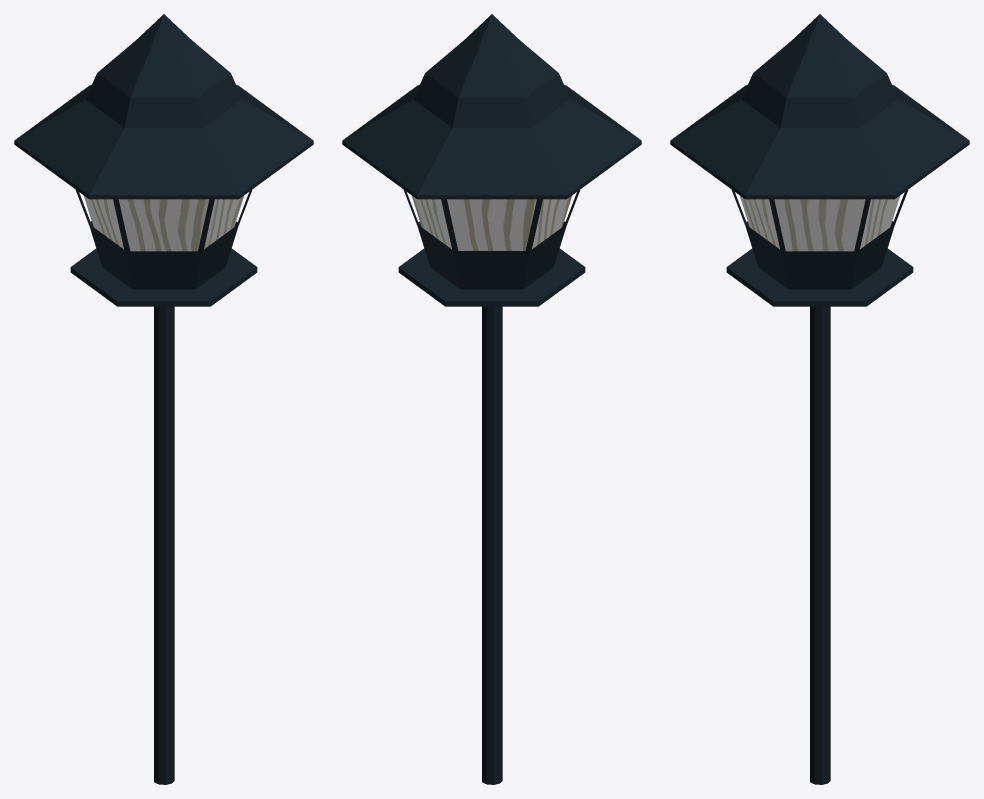
Rendered from 13_lamp.fbx.
3 views of the same model, side by side, from view 1: azimuth 30°, elevation 25°; view 2: azimuth 150°, elevation 25°; view 3: azimuth 270°, elevation 25° (orthographic).
Visible parts, largest first — view 1: Cylinder.017, Cylinder.018, Cylinder.016; view 2: Cylinder.017, Cylinder.018, Cylinder.016; view 3: Cylinder.017, Cylinder.018, Cylinder.016.
Boxes of the visible parts, x1,y1,x2,y2 form: Cylinder.017: [14, 14, 313, 306]; Cylinder.018: [154, 306, 174, 784]; Cylinder.016: [83, 195, 244, 251]; Cylinder.017: [342, 14, 641, 306]; Cylinder.018: [482, 306, 502, 784]; Cylinder.016: [411, 195, 572, 250]; Cylinder.017: [670, 14, 969, 306]; Cylinder.018: [810, 306, 830, 784]; Cylinder.016: [739, 195, 900, 251].
Size of the model in its own units: 118 by 385 by 136.
